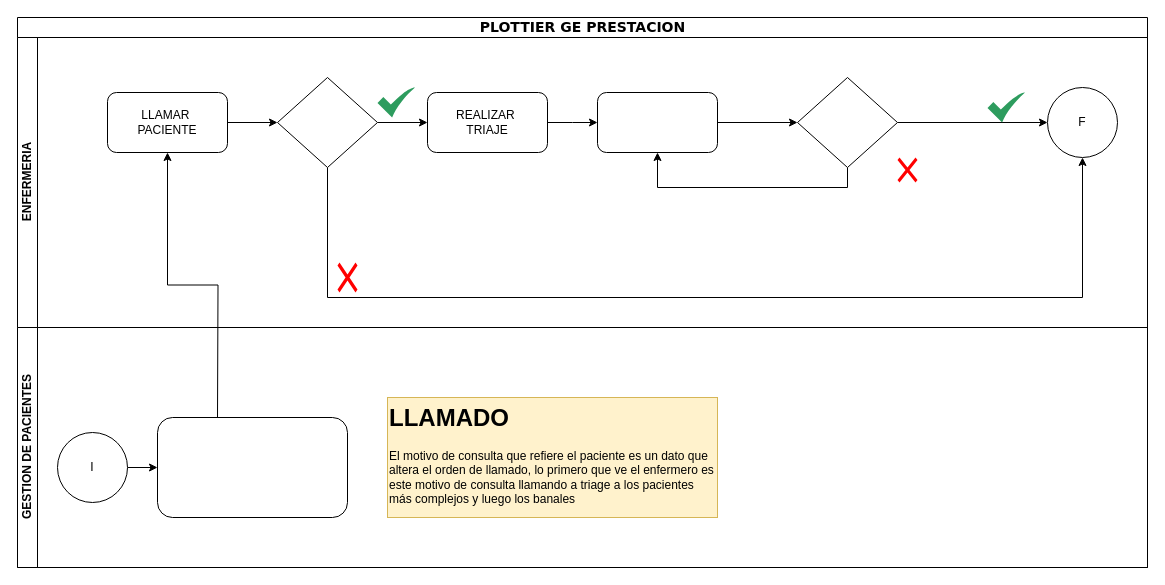
Image size: 1165x585. Some labels were removed from this diagram. Each missing label, with the centre of its shape:
"ESTA PRESENTE" belongs at pixel 327 122.
"FIN TTO" belongs at pixel 847 122.
"REALIZAR TTO" belongs at pixel 657 122.
"RECEPCIONAR PACIENTES ANOTAR MOTIVO DE CONSULTA REFERIDO POR EL PACIENTE" belongs at pixel 252 467.
